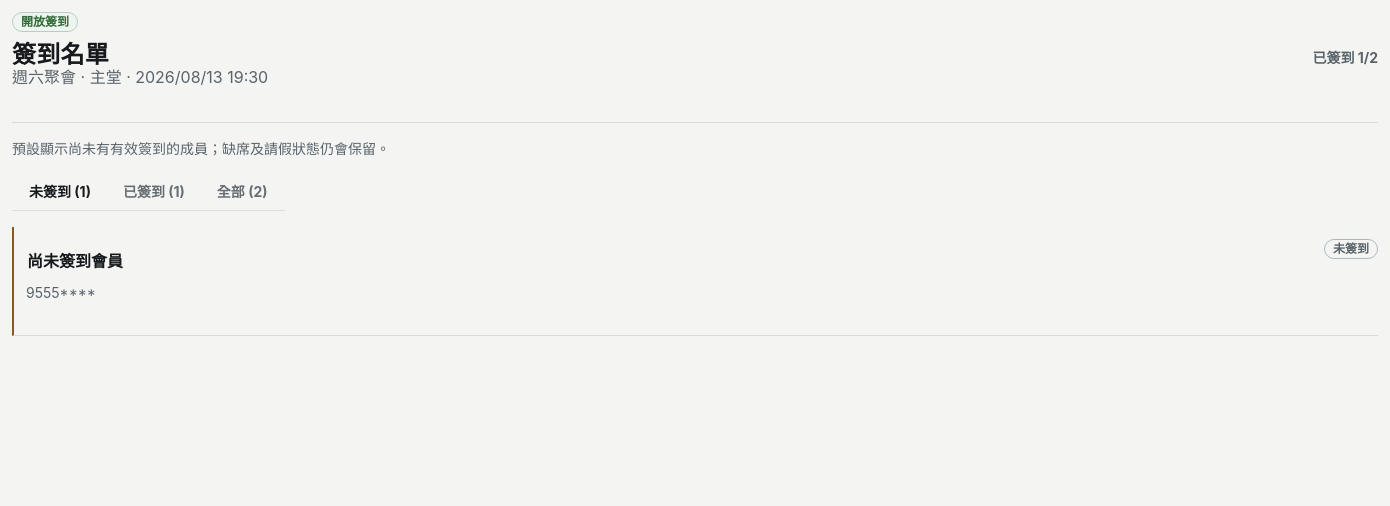
it: AttendanceRoster › defaults to not-yet and switches between checked-in and all
Expected: the button "尚未簽到會員" is shown, [26,239,124,283]
Expected: the text "已簽到會員" is not shown
Click the tab "已簽到 (1)": coordinates (154, 192) [109,170,199,214]
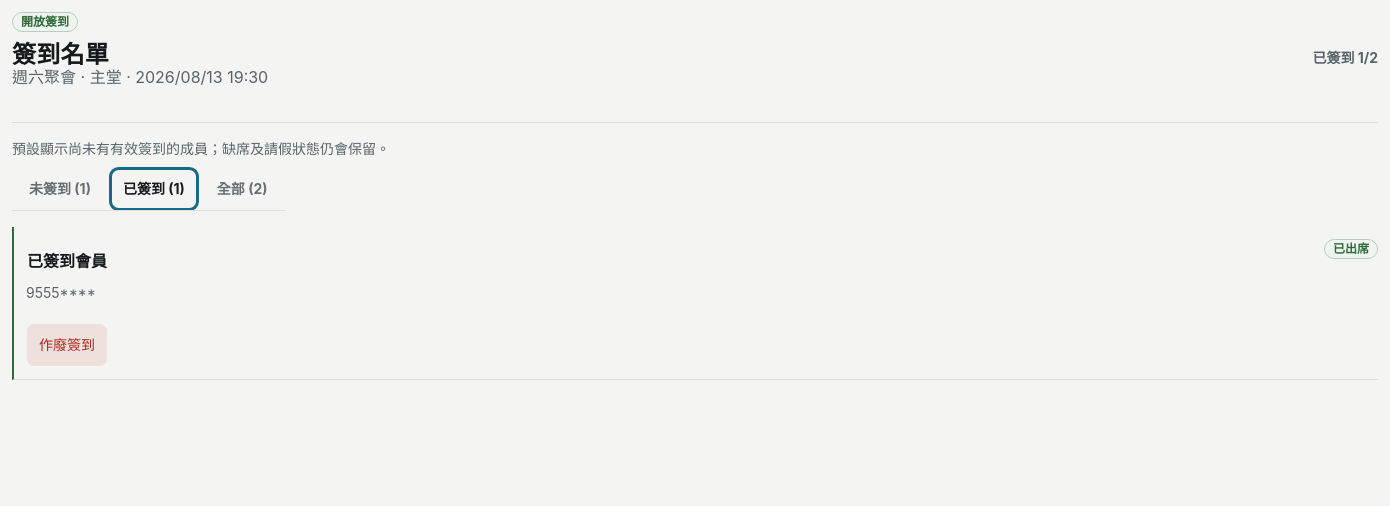
Now the button "已簽到會員" is shown, box [26,239,108,283]
Now the button "尚未簽到會員" is gone
Click the tab "全部 (2)": coordinates (242, 189) [203,167,282,211]
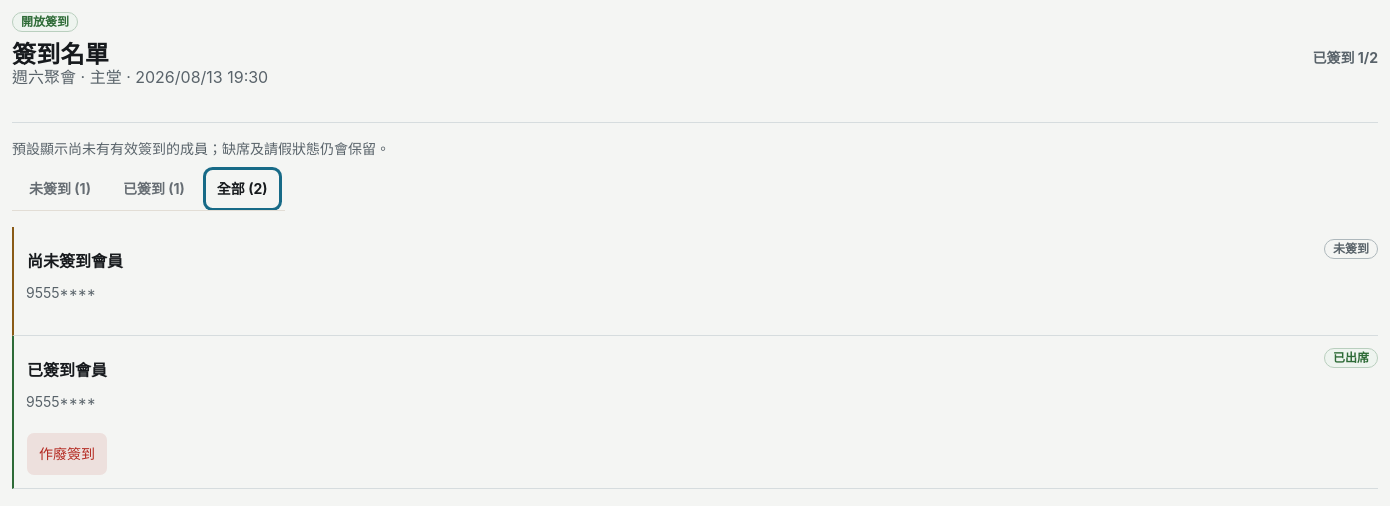
Now the button "尚未簽到會員" is shown, box [26,239,124,283]
